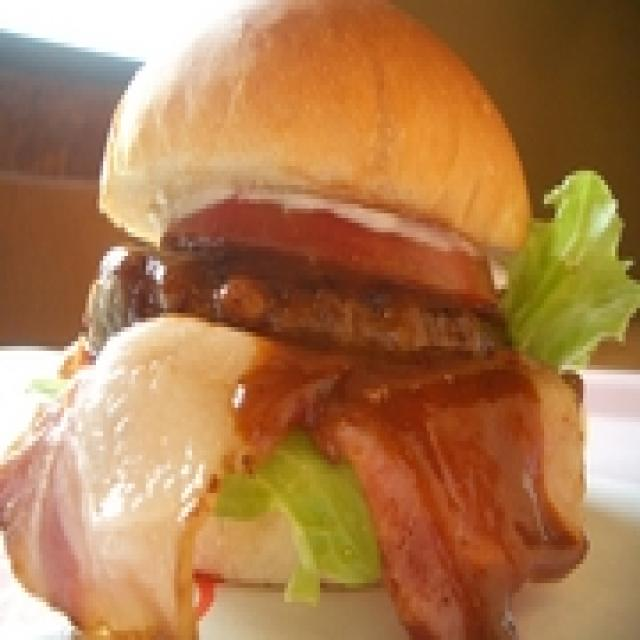汉堡快餐: (81, 0, 586, 588)
